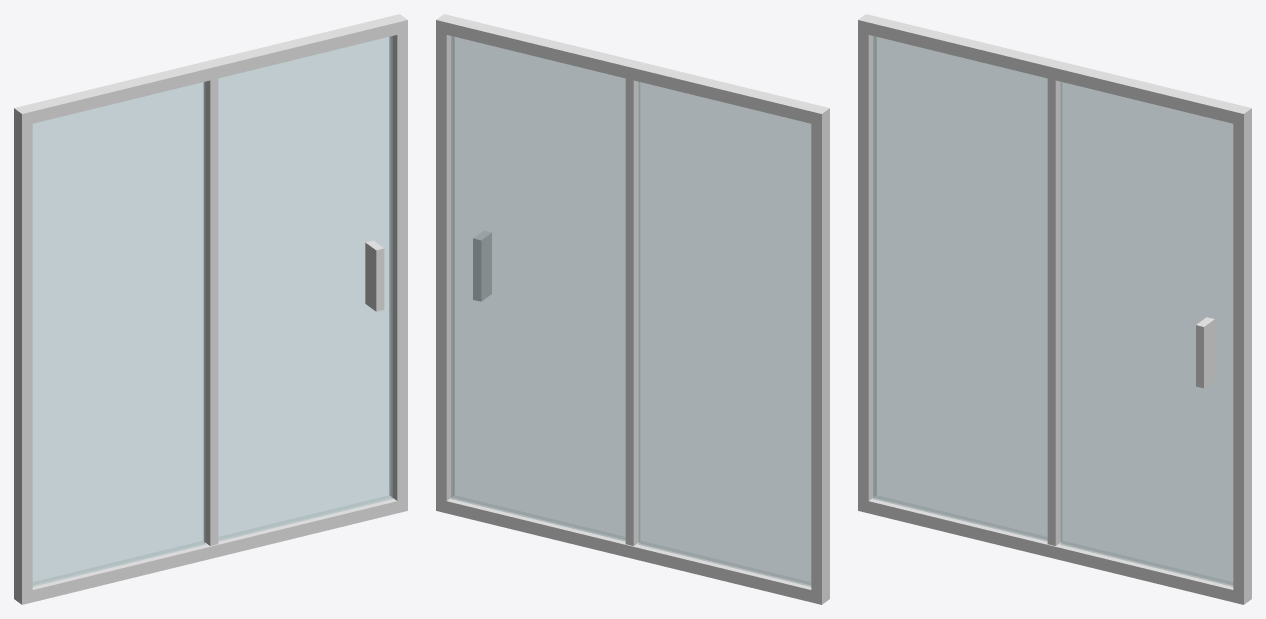
Rendered from mampara-blanco-claro.glb.
The picture shows the model from 3 angles, left to right: view 1: azimuth 30°, elevation 25°; view 2: azimuth 150°, elevation 25°; view 3: azimuth 330°, elevation 25°; orthographic projection.
Visible parts, largest first — view 1: glass-0.4, glass0.4, post-0.8, post0.8, rail1.975, rail0.025, center, handle; view 2: glass0.4, glass-0.4, post-0.8, post0.8, rail1.975, rail0.025, center, handle; view 3: glass-0.4, glass0.4, post0.8, post-0.8, rail1.975, rail0.025, center, handle.
Boxes of the visible parts, x1,y1,x2,y2 form: glass-0.4: (32, 82, 205, 586); glass0.4: (218, 36, 392, 541); post-0.8: (14, 105, 32, 604); post0.8: (389, 14, 407, 513); rail1.975: (25, 15, 401, 124); rail0.025: (27, 495, 402, 602); center: (204, 61, 218, 545); handle: (365, 240, 384, 311); glass0.4: (451, 36, 625, 541); glass-0.4: (638, 82, 811, 586); post-0.8: (811, 105, 829, 604); post0.8: (436, 14, 454, 512); rail1.975: (441, 16, 820, 124); rail0.025: (441, 495, 816, 603); center: (625, 61, 639, 545); handle: (473, 231, 491, 301); glass-0.4: (873, 36, 1047, 541); glass0.4: (1060, 82, 1233, 586); post0.8: (1233, 105, 1251, 604); post-0.8: (858, 14, 876, 513); rail1.975: (863, 15, 1240, 124); rail0.025: (863, 495, 1238, 603); center: (1047, 60, 1061, 545); handle: (1196, 317, 1214, 388).
Size of the model in its own units: 1.64 by 2 by 0.12.
